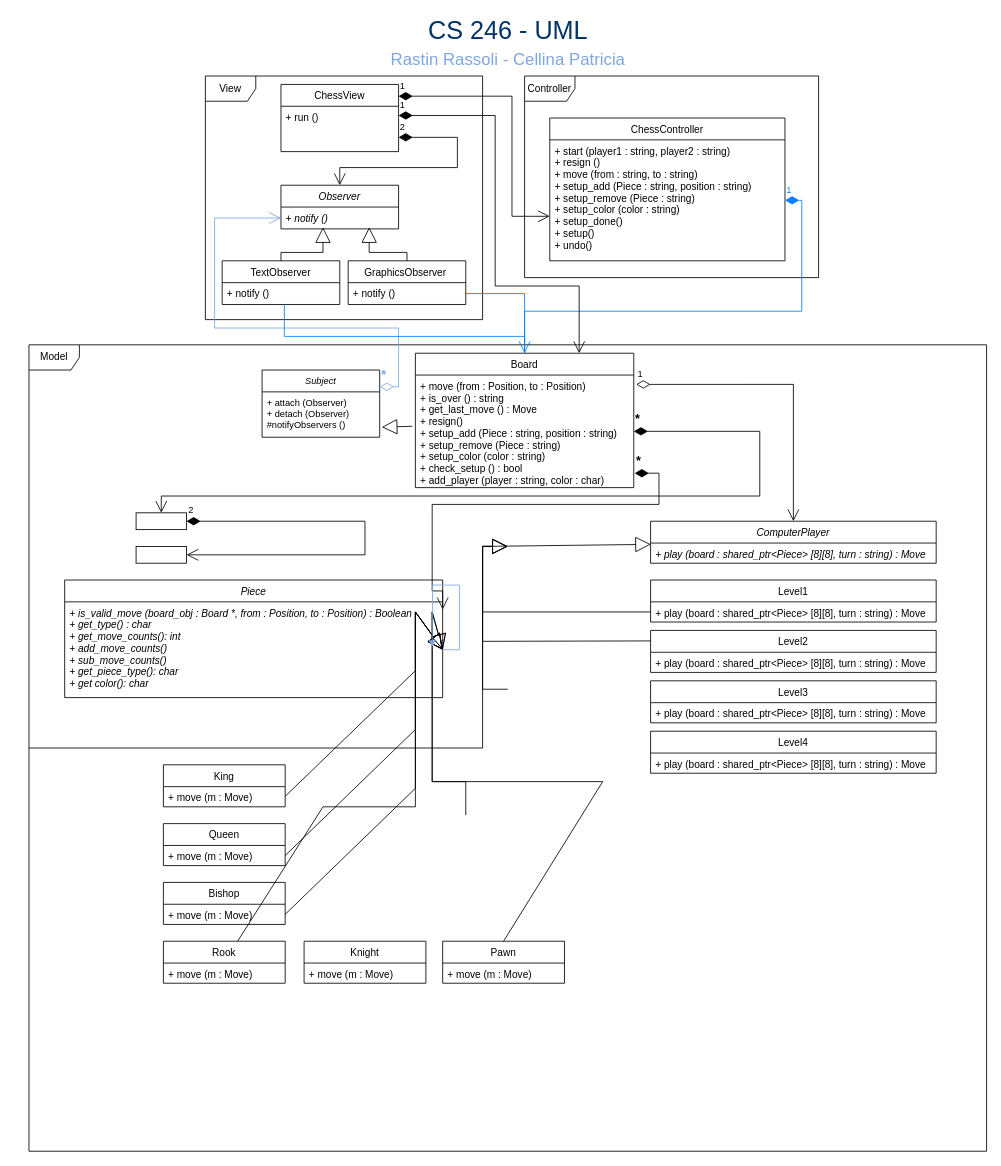
The diagram is 1001 pixels wide and 1166 high, and some of its shapes have lost their labels. Each missing label, with the centre of its shape:
"Move" belongs at (x=160, y=521).
"Position" belongs at (x=160, y=554).
